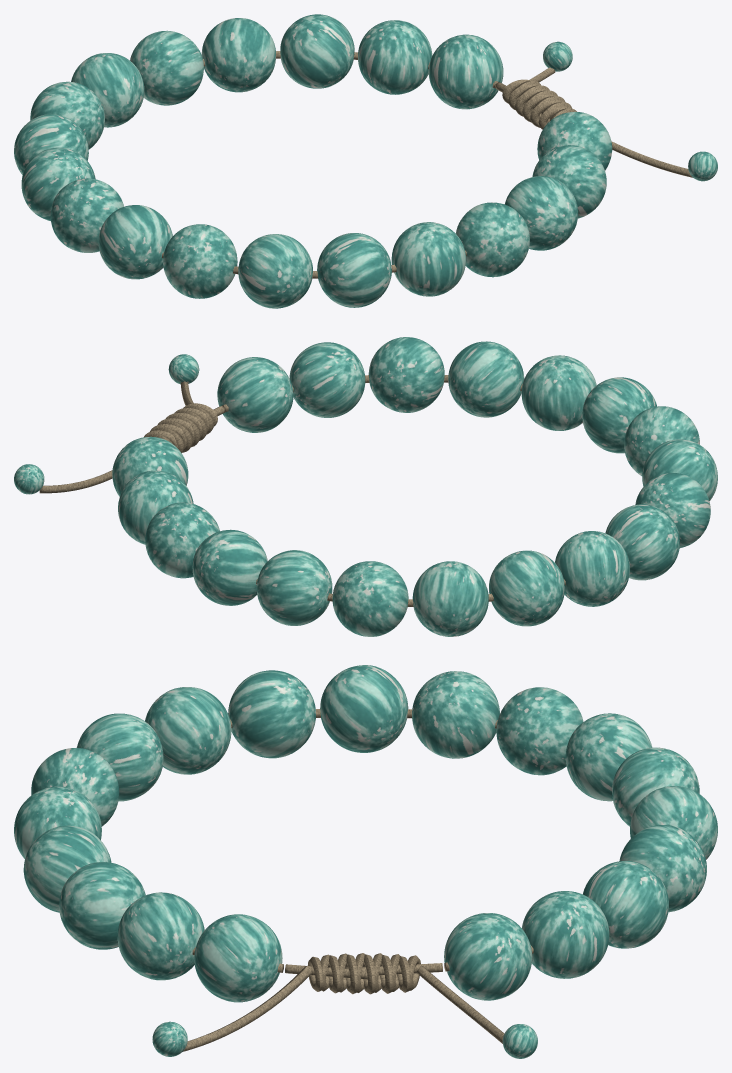
File: amazonit.glb
The picture shows the model from 3 angles, top to bottom: view 1: azimuth 30°, elevation 25°; view 2: azimuth 150°, elevation 25°; view 3: azimuth 270°, elevation 25°; orthographic projection. The views are drawn at different scales.
Parts seen in each view (by area): view 1: bead_round_0.004, bead_round_1.004, bead_round_2, bead_round_1, bead_round_0.001, bead_round_2.003, bead_round_2.004, bead_round_0, bead_round_1.003, bead_round_0.005, bead_round_1.001, bead_round_0.003 (+10 smaller); view 2: bead_round_0.002, bead_round_1.005, bead_round_2.001, bead_round_1.002, bead_round_0.005, bead_round_1.001, bead_round_2.005, bead_round_0.006, bead_round_2.002, bead_round_0.001, bead_round_2.004, bead_round_0.003 (+10 smaller); view 3: bead_round_0.003, bead_round_0.006, bead_round_1.003, bead_round_0, bead_round_2.002, bead_round_1, bead_round_2.005, bead_round_1.002, bead_round_2.003, bead_round_2, bead_round_1.005, bead_round_0.002 (+11 smaller).
Boxes of the visible parts, x1=… form: bead_round_0.004: x1=238, y1=234, x2=312, y2=308; bead_round_1.004: x1=317, y1=233, x2=391, y2=307; bead_round_2: x1=280, y1=14, x2=354, y2=88; bead_round_1: x1=358, y1=20, x2=432, y2=94; bead_round_0.001: x1=201, y1=18, x2=275, y2=92; bead_round_2.003: x1=163, y1=224, x2=237, y2=298; bead_round_2.004: x1=391, y1=222, x2=465, y2=296; bead_round_0: x1=428, y1=34, x2=503, y2=109; bead_round_1.003: x1=98, y1=205, x2=172, y2=279; bead_round_0.005: x1=456, y1=202, x2=529, y2=277; bead_round_1.001: x1=130, y1=30, x2=203, y2=105; bead_round_0.003: x1=50, y1=178, x2=123, y2=252; bead_round_0.002: x1=412, y1=561, x2=488, y2=636; bead_round_1.005: x1=368, y1=337, x2=444, y2=412; bead_round_2.001: x1=332, y1=561, x2=408, y2=636; bead_round_1.002: x1=489, y1=550, x2=564, y2=626; bead_round_0.005: x1=448, y1=341, x2=524, y2=417; bead_round_1.001: x1=256, y1=550, x2=332, y2=625; bead_round_2.005: x1=289, y1=342, x2=365, y2=417; bead_round_0.006: x1=217, y1=357, x2=293, y2=432; bead_round_2.002: x1=555, y1=531, x2=629, y2=606; bead_round_0.001: x1=192, y1=529, x2=267, y2=605; bead_round_2.004: x1=521, y1=355, x2=596, y2=430; bead_round_0.003: x1=605, y1=504, x2=679, y2=580; bead_round_0.003: x1=320, y1=665, x2=408, y2=752; bead_round_0.006: x1=194, y1=914, x2=282, y2=1002; bead_round_1.003: x1=228, y1=670, x2=315, y2=758; bead_round_0: x1=444, y1=913, x2=532, y2=1000; bead_round_2.002: x1=412, y1=671, x2=499, y2=758; bead_round_1: x1=522, y1=891, x2=609, y2=978; bead_round_2.005: x1=117, y1=892, x2=204, y2=980; bead_round_1.002: x1=496, y1=687, x2=583, y2=775; bead_round_2.003: x1=145, y1=687, x2=231, y2=774; bead_round_2: x1=583, y1=861, x2=668, y2=948; bead_round_1.005: x1=59, y1=862, x2=145, y2=949; bead_round_0.002: x1=565, y1=713, x2=652, y2=801.
Size of the model in its own units: 7.19 by 0.8027 by 6.4.
4 materials, 4 textured.
